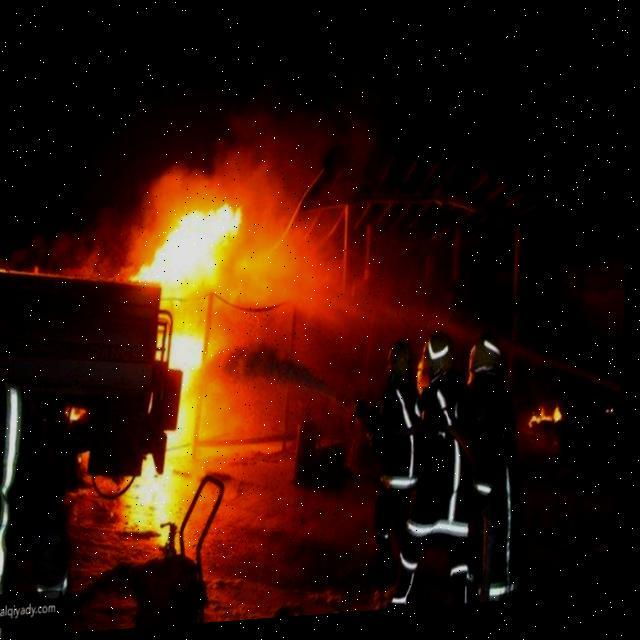Fire: (117, 200, 303, 454)
